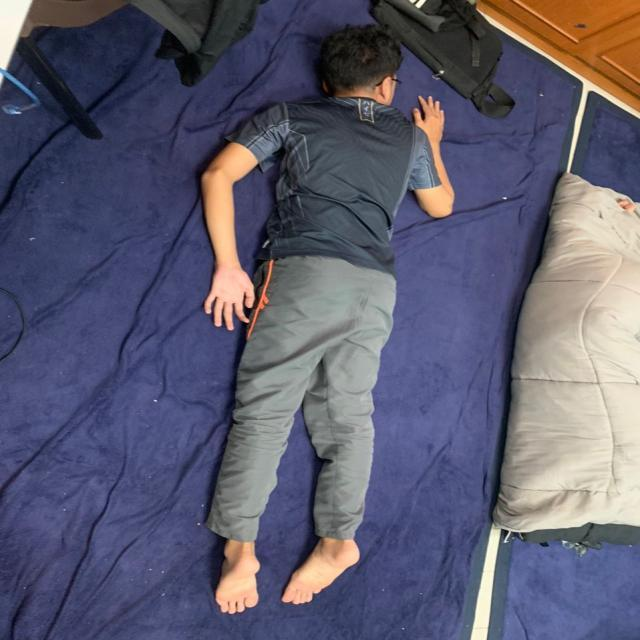fall: (186, 24, 458, 618)
